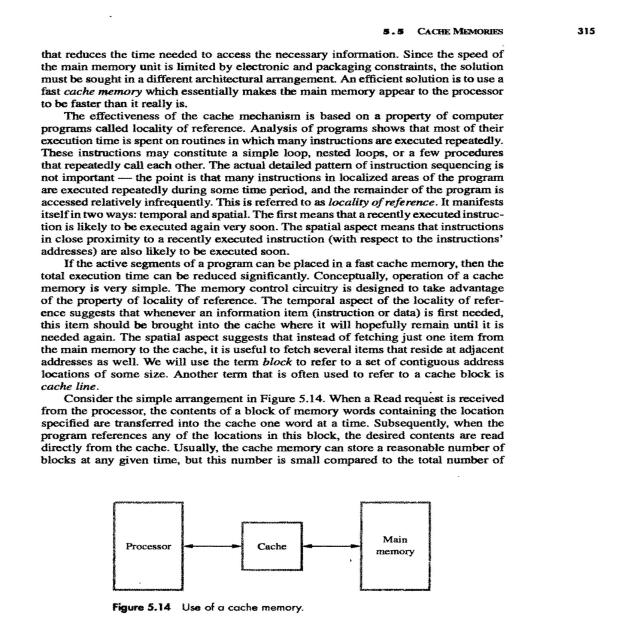diagram: (70, 487, 537, 626)
